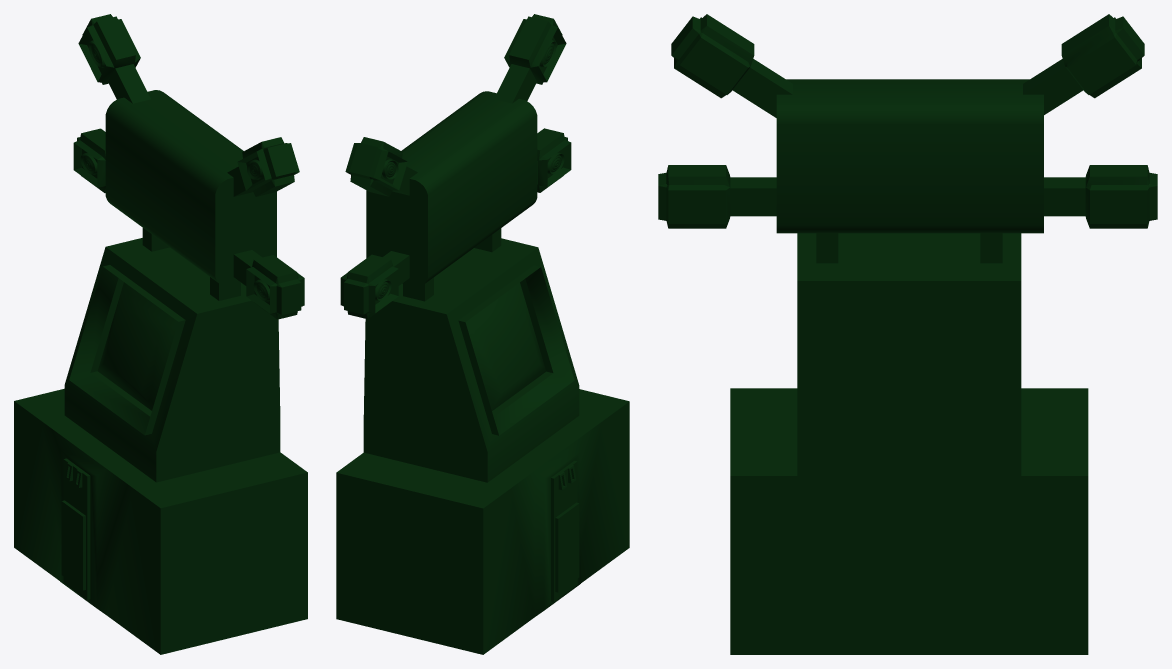
Rendered from DanceDanceRevolutionMachine.fbx.
The picture shows the model from 3 angles, left to right: view 1: azimuth 30°, elevation 25°; view 2: azimuth 150°, elevation 25°; view 3: azimuth 270°, elevation 25°; orthographic projection. The views are drawn at different scales.
Parts seen in each view (by area): view 1: Dance Dance Revolution; view 2: Dance Dance Revolution; view 3: Dance Dance Revolution.
Boxes of the visible parts, box(x1,y1,x2,y2) form: Dance Dance Revolution: box(14, 14, 307, 654); Dance Dance Revolution: box(336, 14, 629, 654); Dance Dance Revolution: box(658, 14, 1157, 654).
Size of the model in its own units: 46.76 by 138 by 103.
